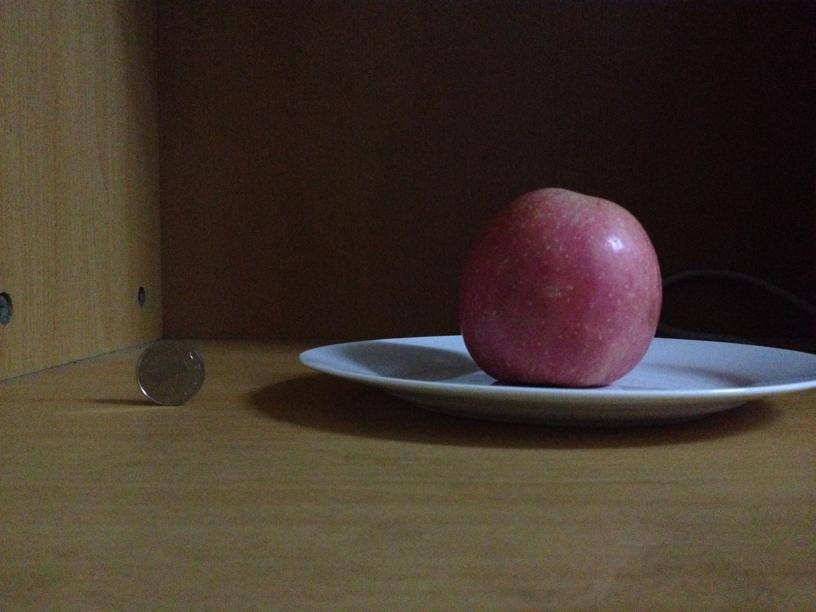apple: (464, 183, 661, 385)
coin: (137, 339, 205, 405)
